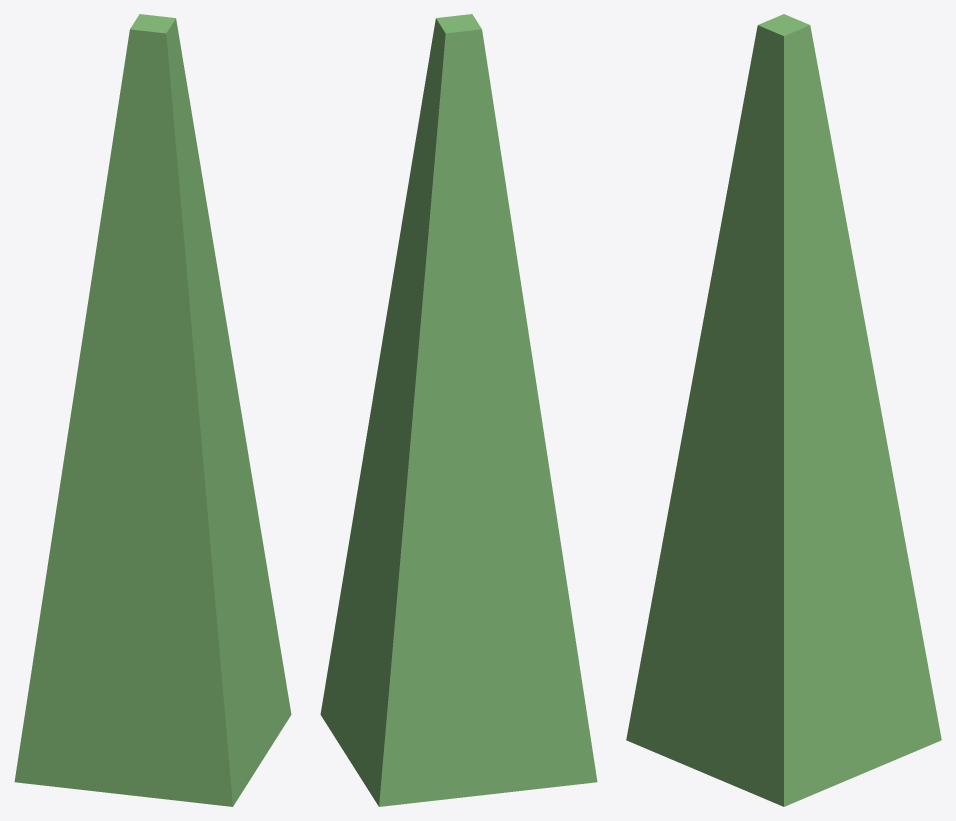
File: crop_grain_sprout.glb
3 views of the same model, side by side, from view 1: azimuth 30°, elevation 25°; view 2: azimuth 150°, elevation 25°; view 3: azimuth 270°, elevation 25° (orthographic).
Parts seen in each view (by area): view 1: Cone; view 2: Cone; view 3: Cone.
Part boxes in pixels (x1,y1,x2,y2): Cone: [14, 14, 291, 806]; Cone: [320, 14, 597, 806]; Cone: [626, 14, 941, 806].
Size of the model in its own units: 0.06 by 0.15 by 0.06.
